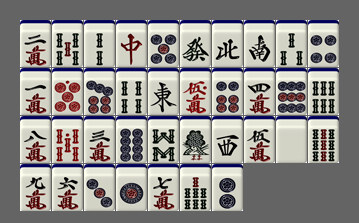0m: (180, 68, 211, 115)
0p: (52, 68, 83, 115)
0s: (52, 116, 83, 163)
1m: (20, 68, 51, 115)
1p: (116, 164, 147, 211)
1s: (180, 116, 211, 163)
1z: (148, 68, 179, 115)
2m: (20, 20, 51, 67)
2p: (212, 164, 243, 211)
2s: (84, 20, 115, 67)
2z: (244, 20, 275, 67)
3m: (84, 116, 115, 163)
3p: (84, 164, 115, 211)
3s: (276, 20, 307, 67)
3z: (212, 116, 243, 163)
4m: (244, 68, 275, 115)
4p: (308, 20, 339, 67)
4s: (116, 68, 147, 115)
4z: (212, 20, 243, 67)
5m: (244, 116, 275, 163)
5p: (148, 20, 179, 67)
5s: (52, 20, 83, 67)
5z: (276, 116, 307, 163)
6m: (52, 164, 83, 211)
6p: (212, 68, 243, 115)
6s: (308, 68, 339, 115)
6z: (180, 20, 211, 67)
7m: (148, 164, 179, 211)
7p: (84, 68, 115, 115)
7s: (180, 164, 211, 211)
7z: (116, 20, 147, 67)
8m: (20, 116, 51, 163)
8p: (116, 116, 147, 163)
8s: (148, 116, 179, 163)
9m: (20, 164, 51, 211)
9p: (276, 68, 307, 115)
9s: (308, 116, 339, 163)
